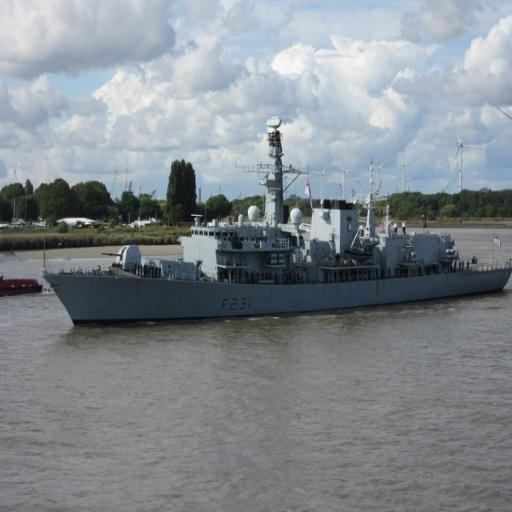Fragata: (38, 108, 512, 334)
